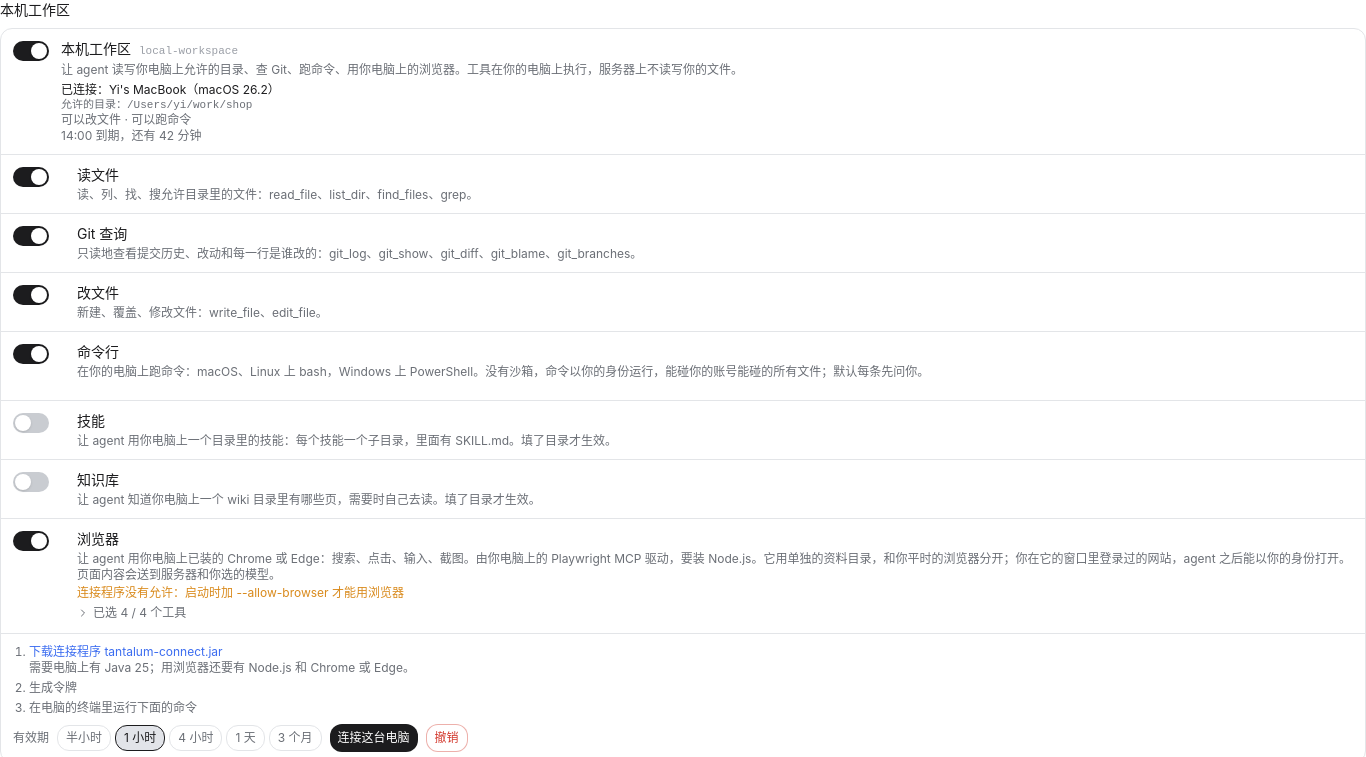
Test: LocalWorkspaceCard › the browser's tools › can be picked whatever the computer says about the browser, and the reason stays
expect the text "连接程序没有允许：启动时加 --allow-browser 才能用浏览器" is shown: met, box 77,585 -> 404,600
Click the button "已选 4 / 4 个工具" at point(132, 613), box 77,605 -> 186,621
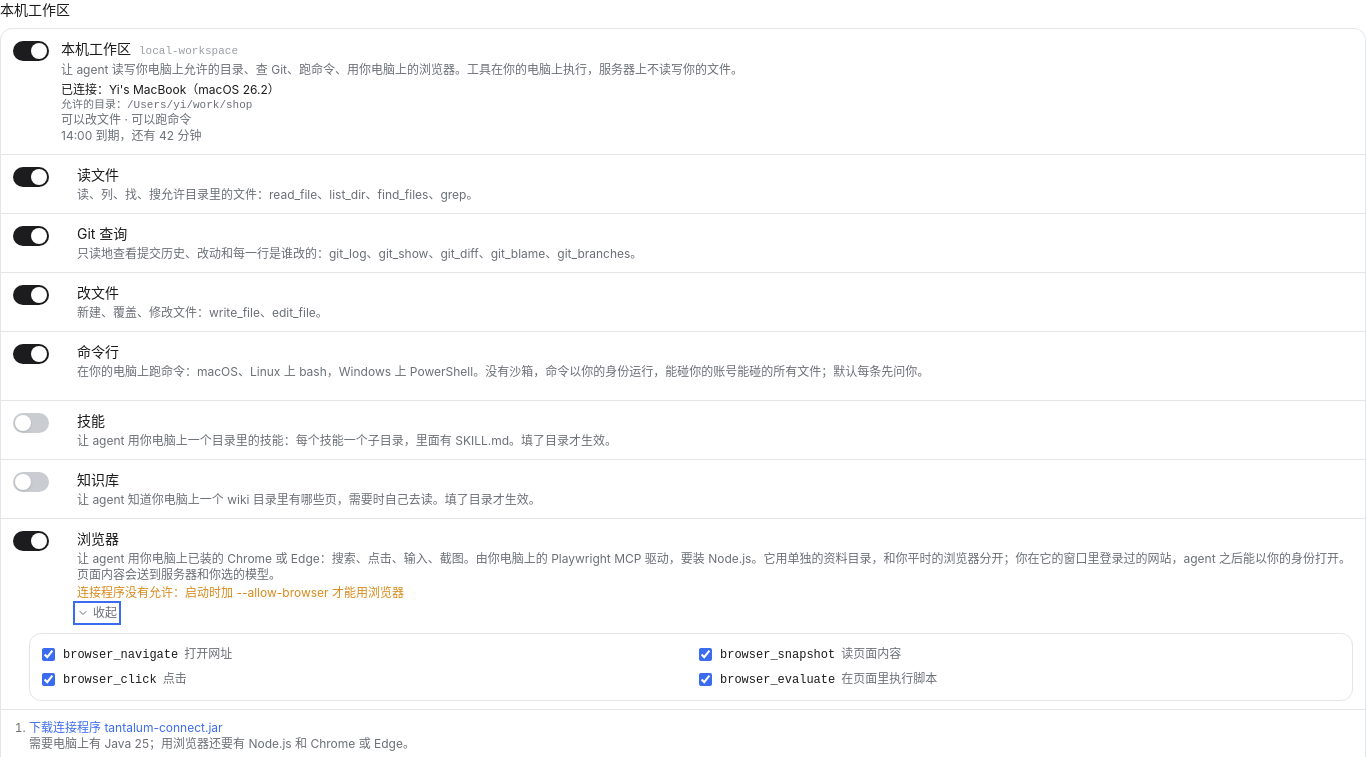
expect the checkbox labelled "browser_click" is enabled: met, box 42,673 -> 55,686
